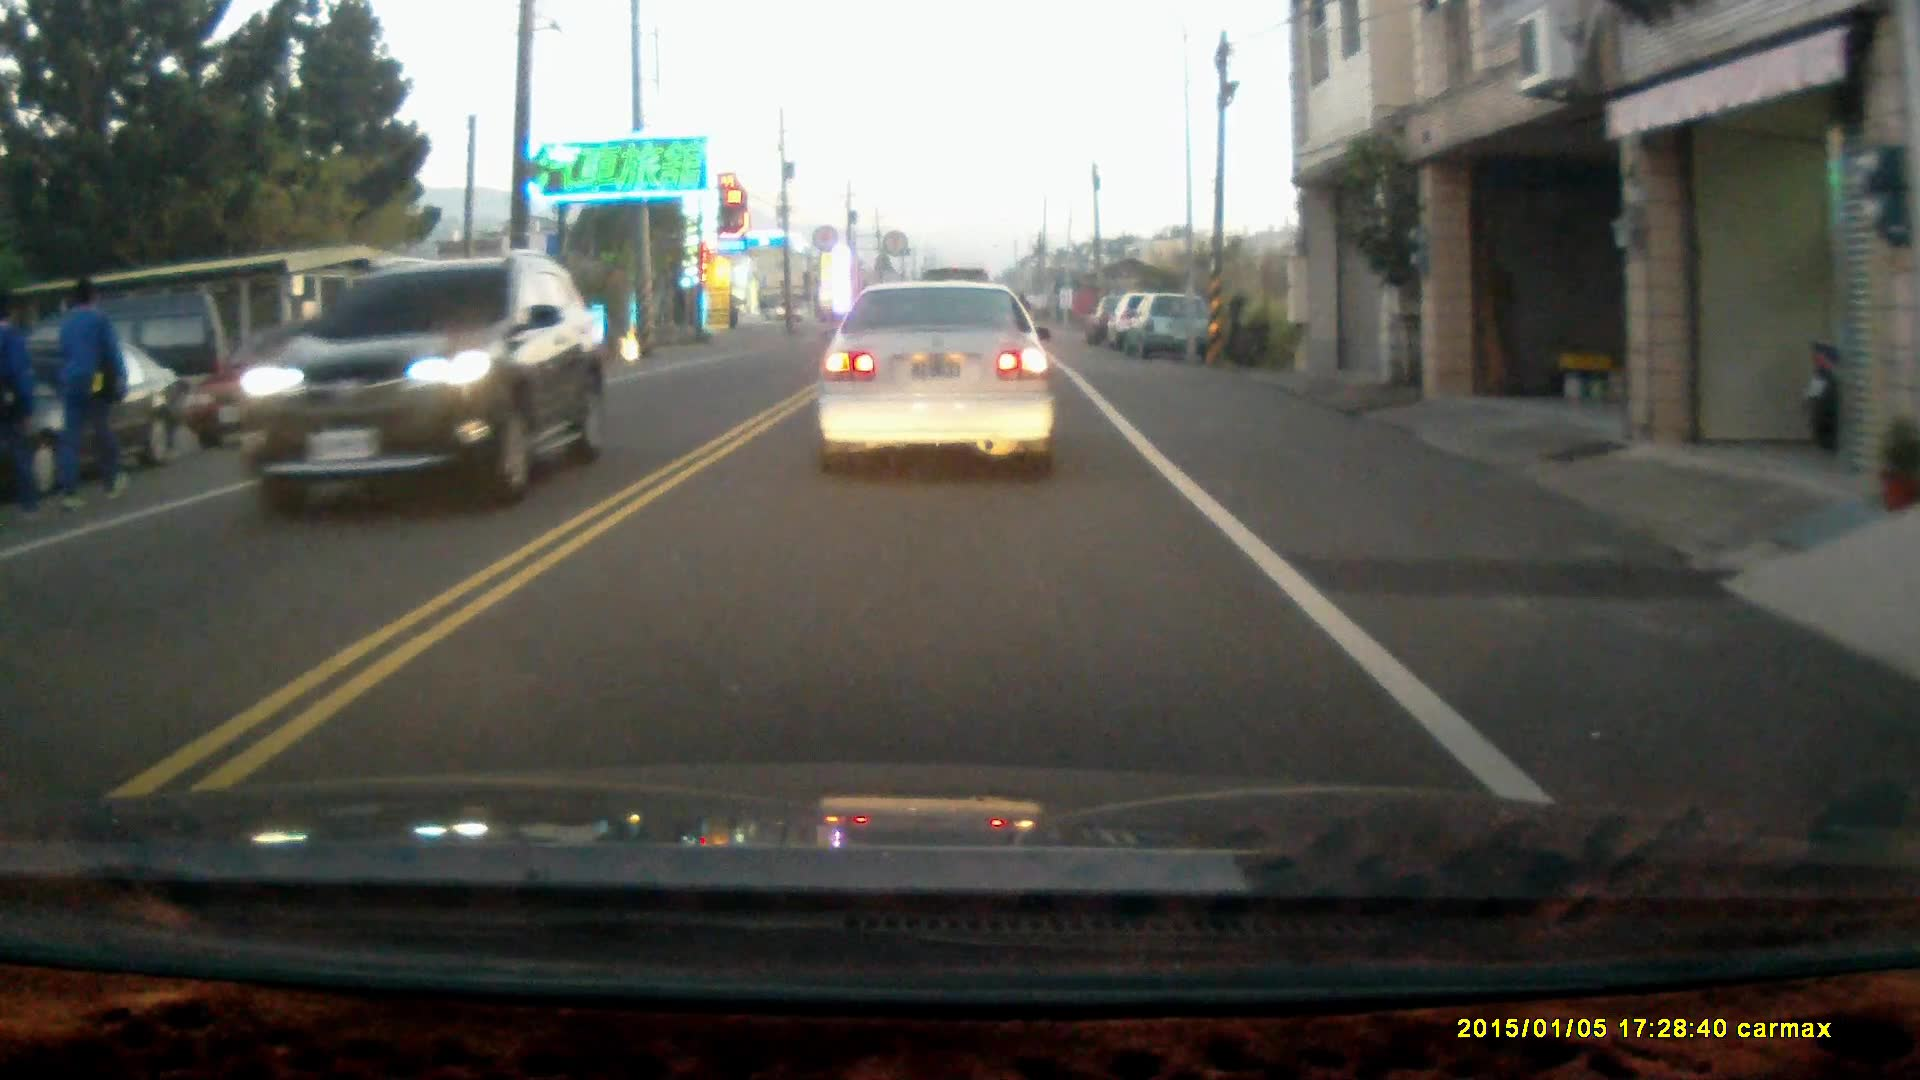pedestrian: (51, 274, 128, 510), (0, 281, 45, 525)
vehicle: (233, 254, 608, 507), (813, 279, 1061, 477), (1, 327, 191, 503), (1123, 294, 1214, 363)
